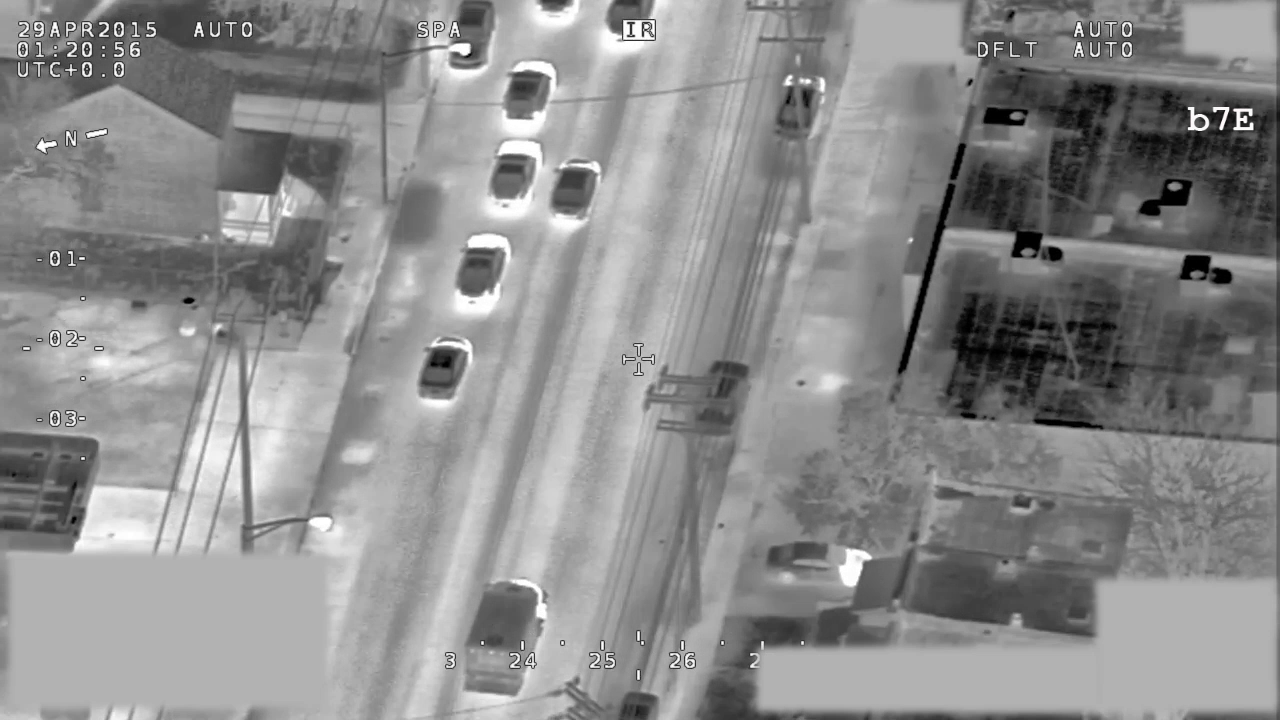vehicle: (462, 573, 551, 697), (760, 538, 874, 587), (456, 229, 517, 317), (486, 140, 548, 220), (413, 331, 477, 408), (499, 57, 559, 137), (546, 155, 605, 231), (447, 1, 502, 77), (771, 71, 829, 141), (700, 359, 751, 432), (599, 1, 661, 53), (615, 686, 663, 720), (527, 1, 582, 30)
